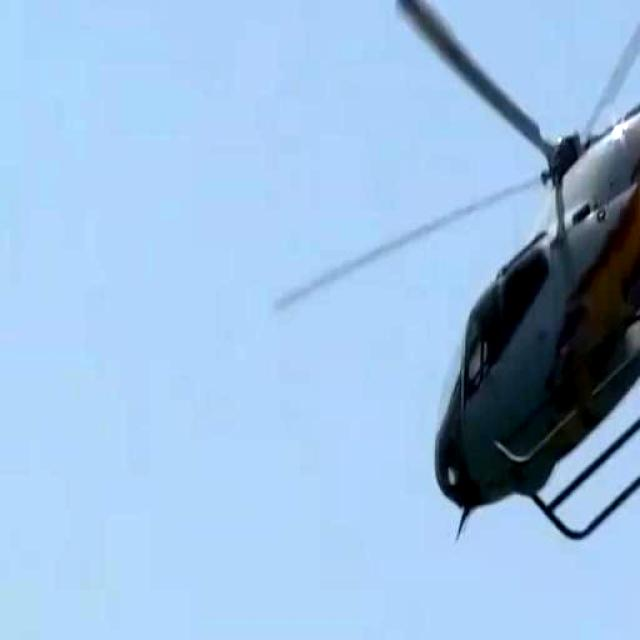drone: (284, 0, 640, 552)
